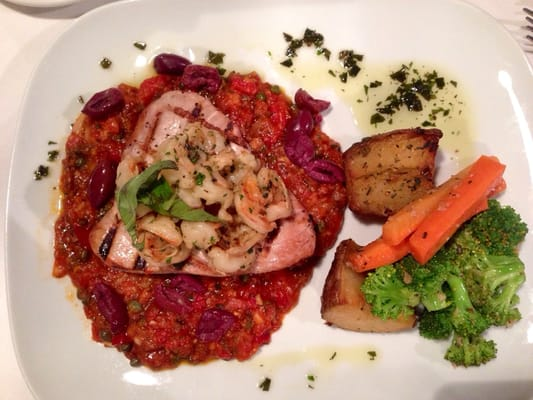curry: (362, 198, 530, 368)
